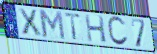7: (131, 17, 146, 48)
C: (106, 15, 130, 47)
H: (84, 13, 108, 44)
M: (37, 8, 67, 41)
T: (63, 12, 82, 42)
X: (17, 7, 44, 37)
